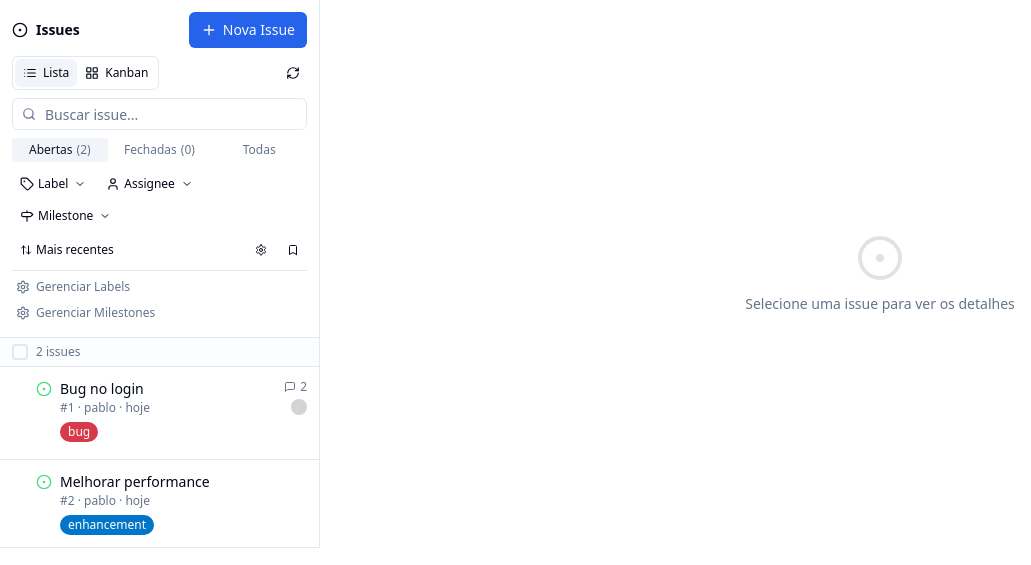
Scenario: IssuesManager › busca de issues › filtra issues pelo título
The width and height of the screenshot is (1031, 565).
In the field with placeholder "Buscar issue...": (160, 114) [12,98,307,130], type "bug"
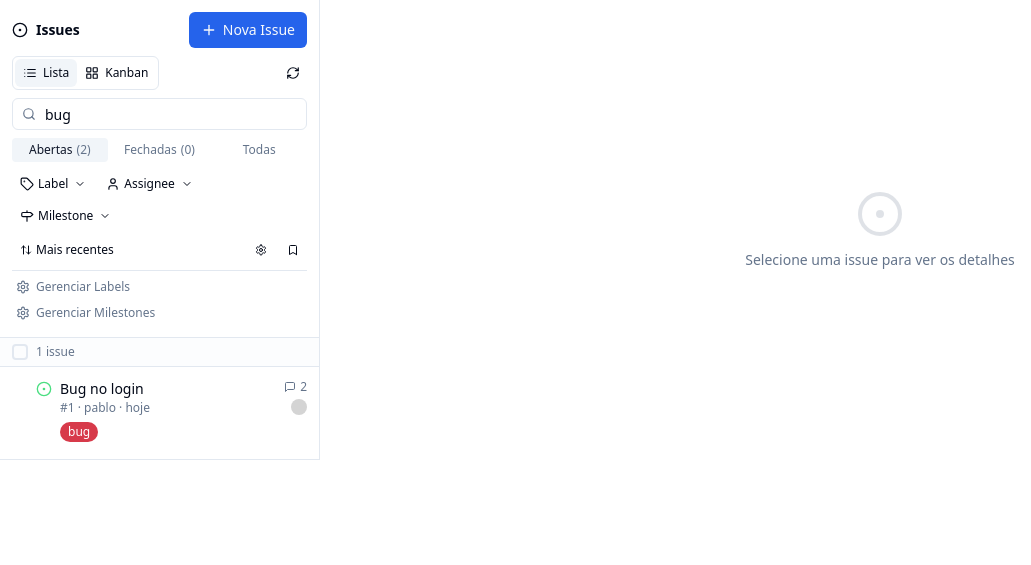
Expected: the text "Bug no login" is shown, [60,379,144,398]
Expected: the text "Melhorar performance" is gone
